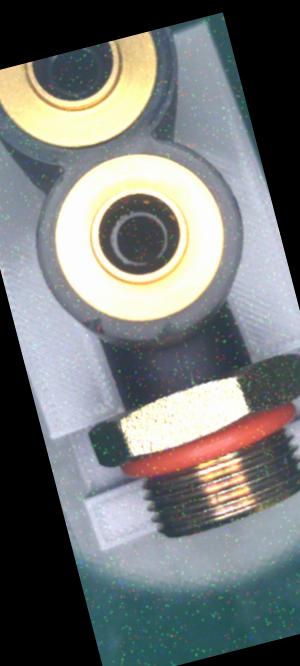bump: (145, 312, 192, 348), (75, 310, 116, 347)
joint line: (171, 345, 191, 389)
white mark: (186, 366, 200, 387)
